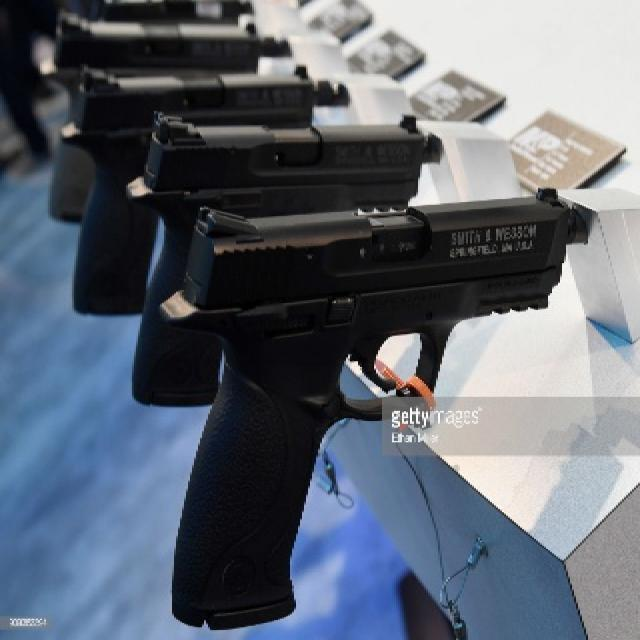weapon: (170, 188, 544, 628), (138, 104, 440, 204), (60, 56, 336, 132)
